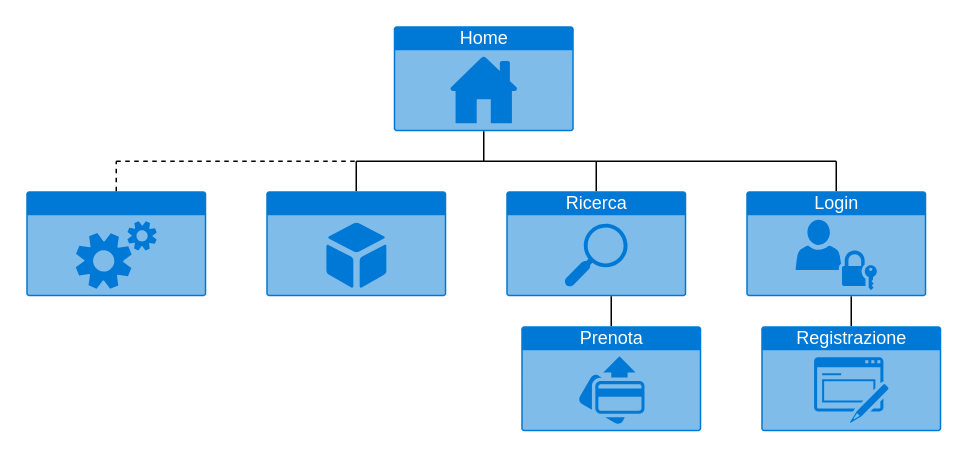
This 966x456 diagram has some shape labels left out. Here are the shapes that lost their labels. From the top down, the centre of each, then its label:
At [116,243]: "Pannello Admin".
At [356,243]: "Offerta".
